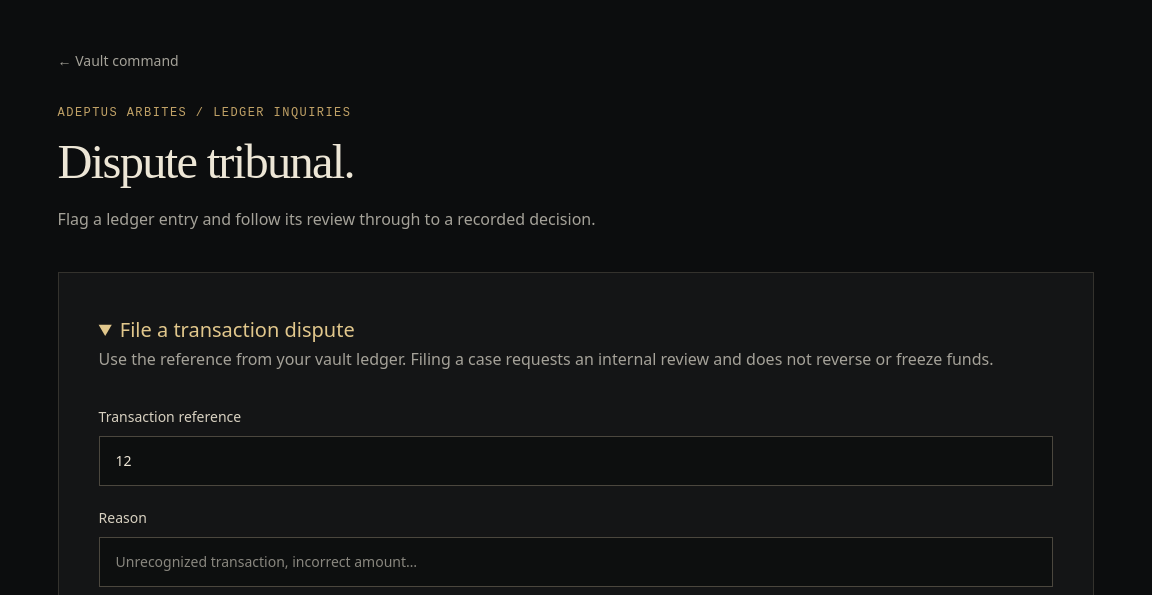
transaction link preselects reference and submission opens the case
This screenshot has width=1152, height=595.
Expected: the field labelled "Transaction reference" holds "12", x1=99 y1=436 x2=1053 y2=486
Type "Unrecognized entry" into the field labelled "Reason".
click(576, 562); type("Unrecognized entry")  # box x1=99 y1=537 x2=1053 y2=587
(page scrolled)
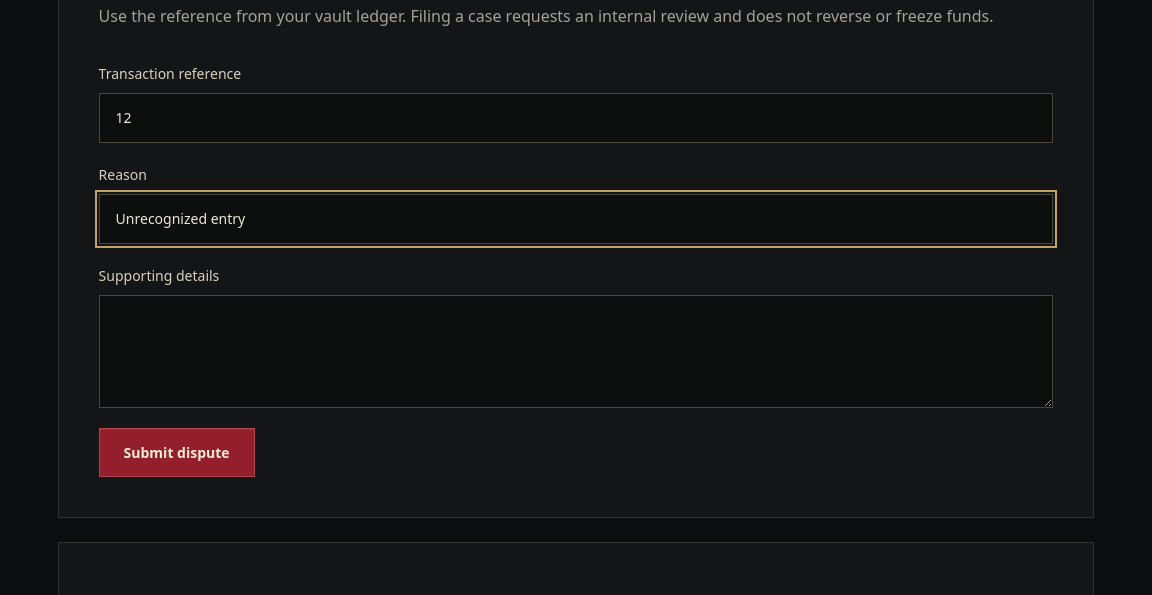
Type "Please investigate." into the text box labelled "Supporting details".
click(576, 352); type("Please investigate.")  # box x1=99 y1=295 x2=1053 y2=408
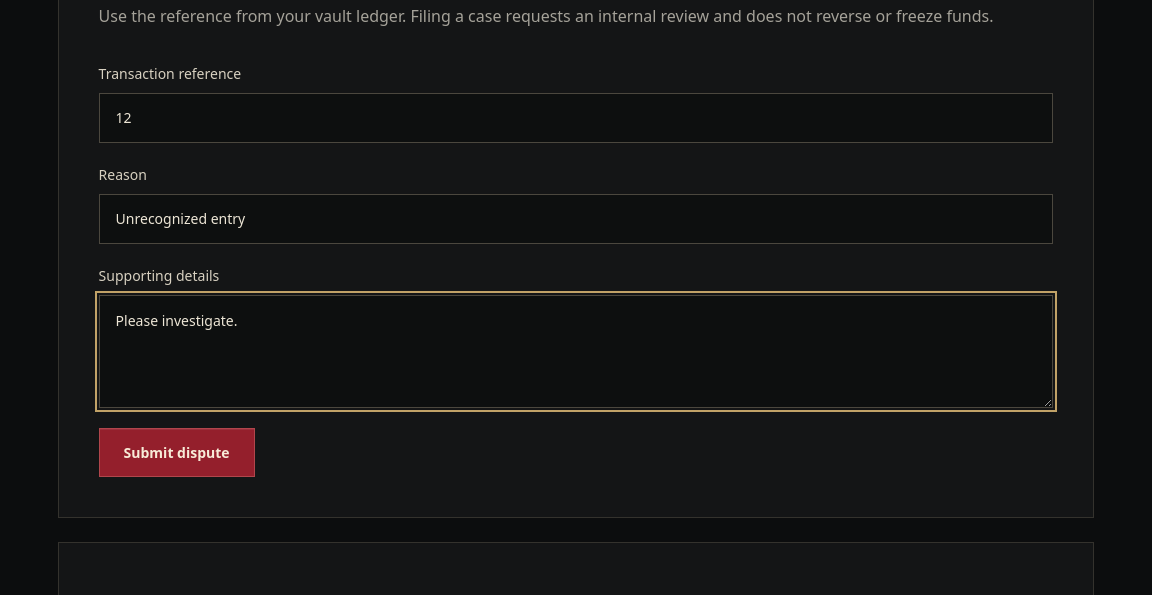
Click the button "Submit dispute".
click(177, 453)  # box x1=99 y1=428 x2=255 y2=477
(page scrolled)
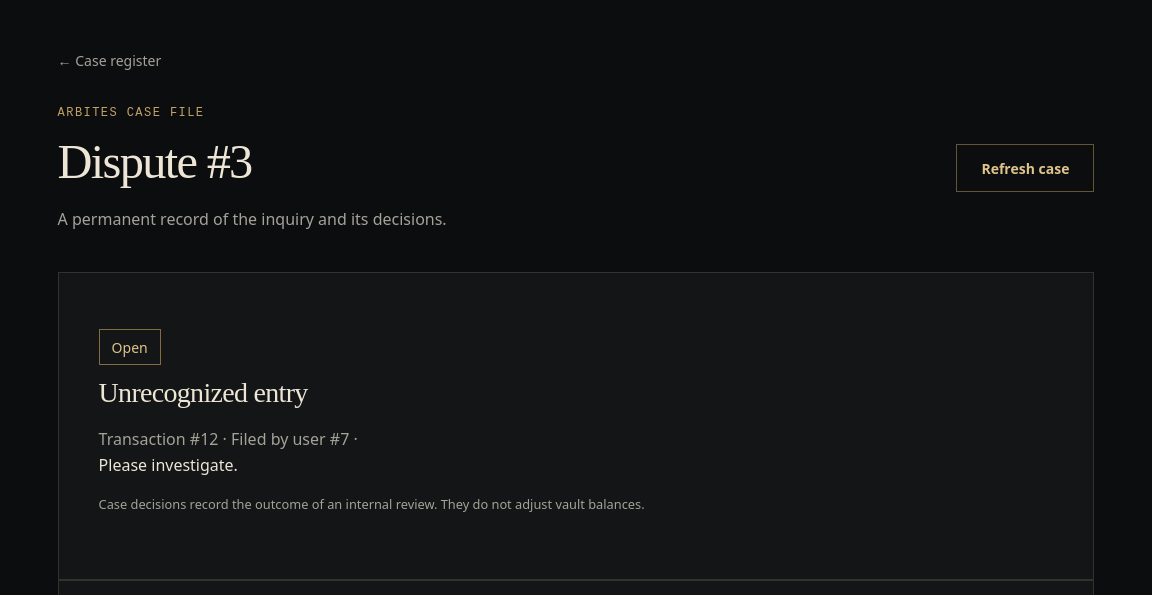
Now the heading "Dispute #3" is shown, box x1=58 y1=135 x2=252 y2=188
